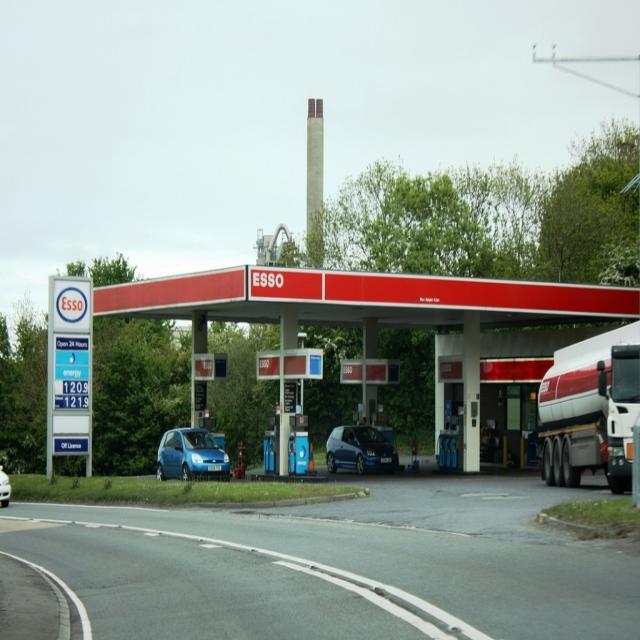esso: (55, 281, 91, 328)
